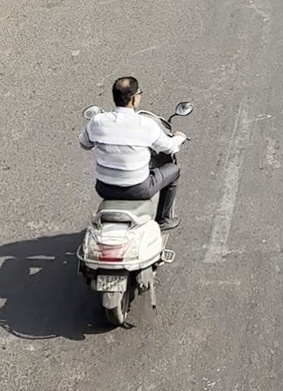BikeWithRider: (67, 71, 196, 333)
NoHelmet: (105, 72, 147, 115)
